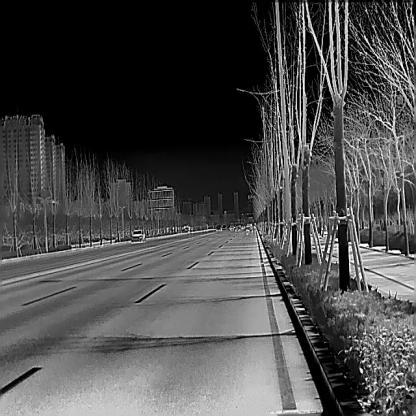car: (131, 229, 145, 241), (245, 224, 253, 234), (214, 224, 221, 230), (235, 225, 240, 232), (222, 224, 226, 229)
